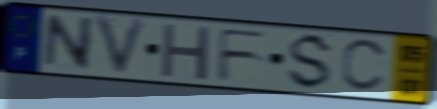C: (339, 38, 391, 95)
F: (215, 27, 271, 83)
H: (159, 21, 214, 83)
N: (40, 13, 97, 72)
S: (284, 31, 337, 92)
V: (90, 13, 151, 80)
